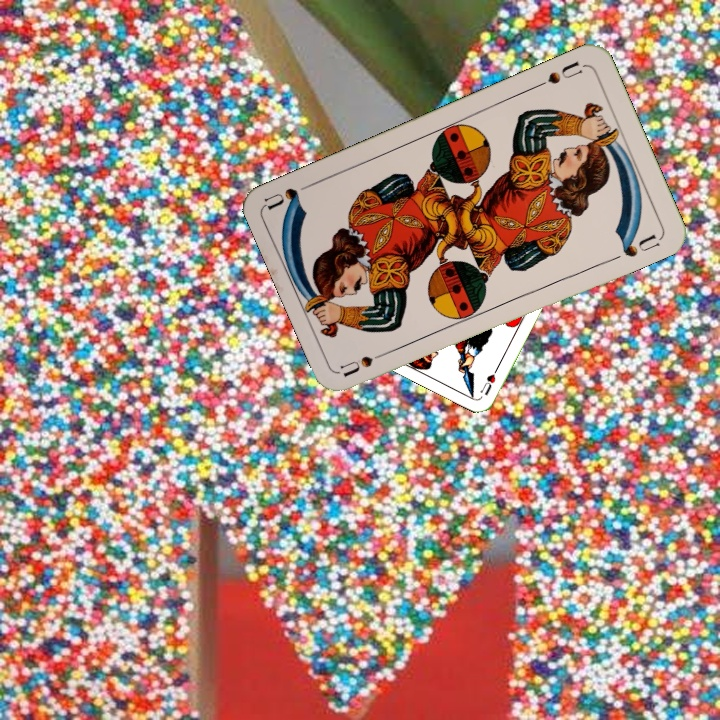HU: (476, 361, 502, 398)
SU: (337, 345, 395, 380), (531, 57, 587, 91)
